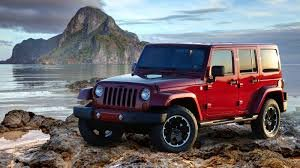mobil: (78, 37, 280, 152)
